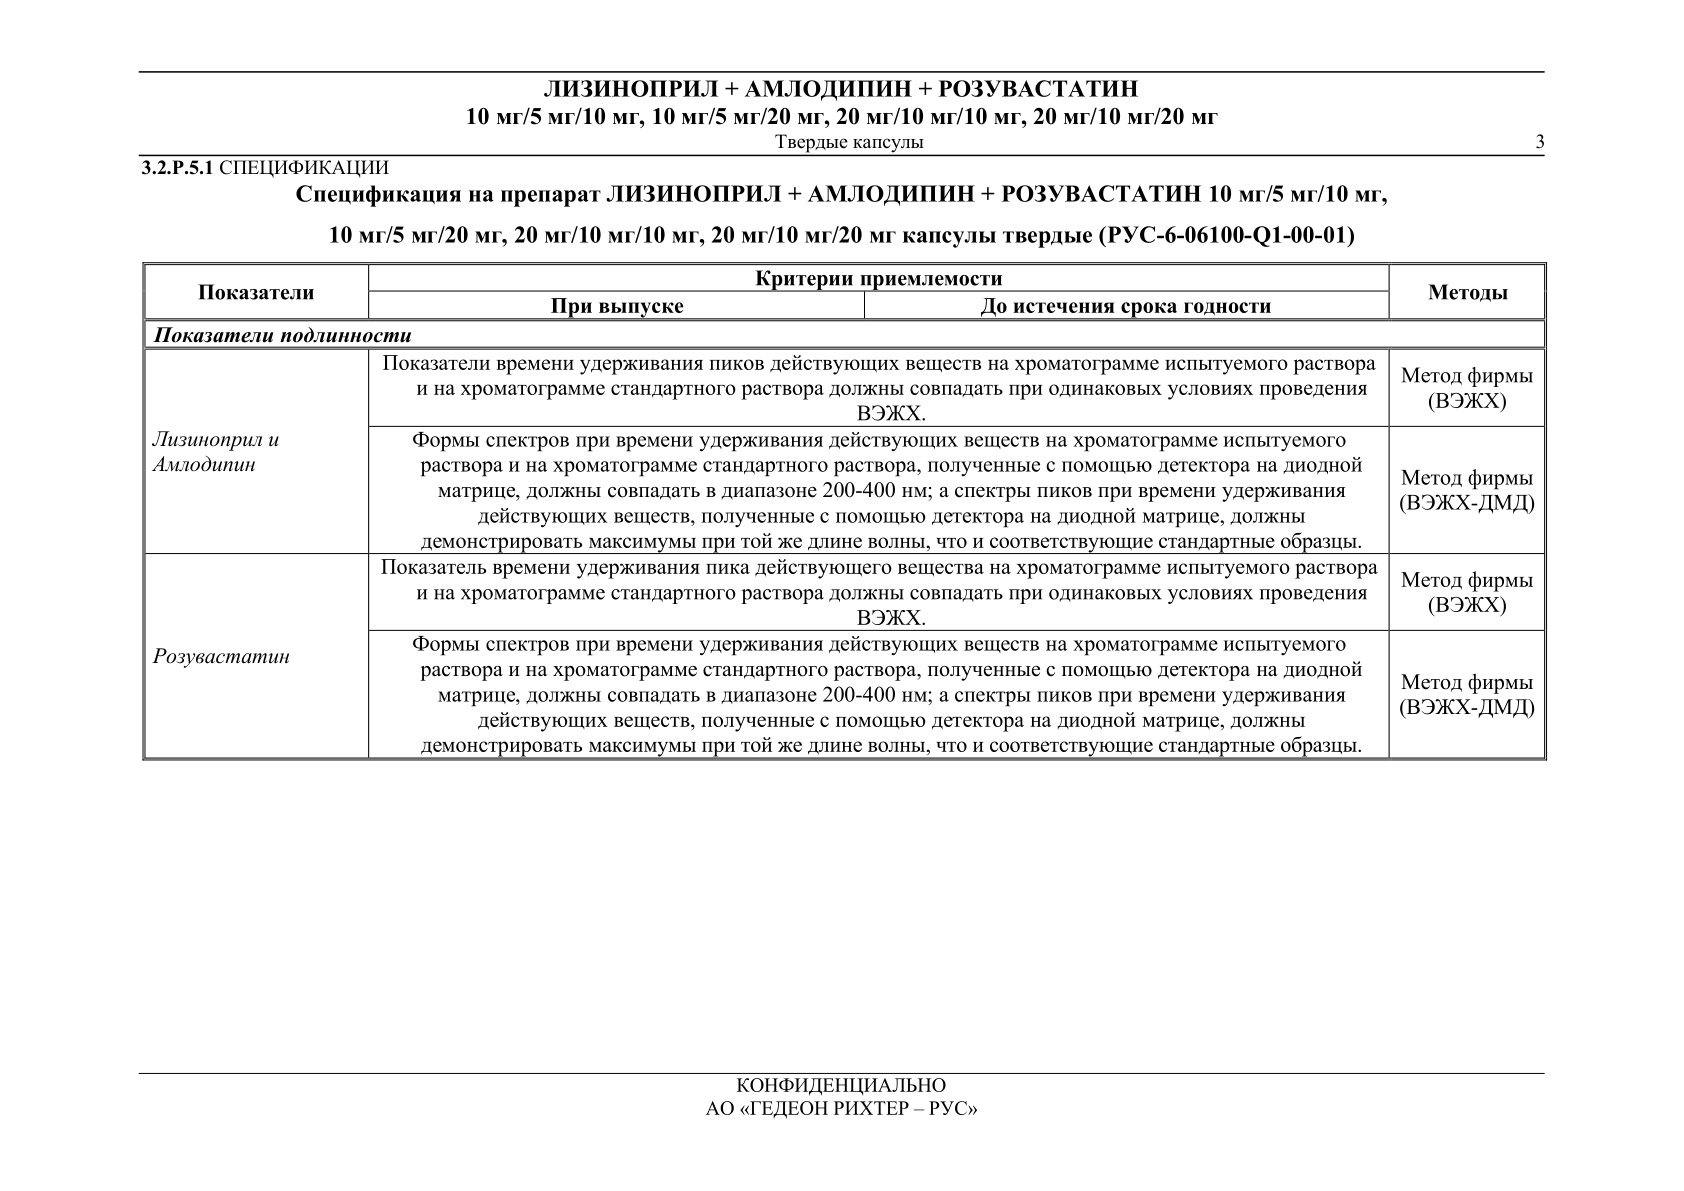merged_cells: (140, 260, 1547, 760)
